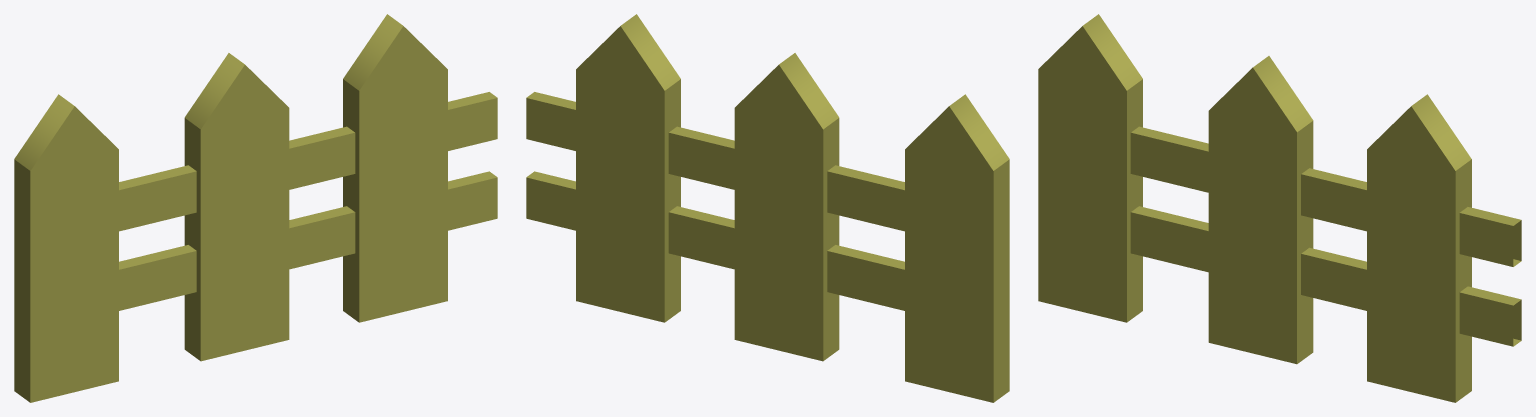
File: SM_ZhaLan.fbx
The picture shows the model from 3 angles, left to right: view 1: azimuth 30°, elevation 25°; view 2: azimuth 150°, elevation 25°; view 3: azimuth 330°, elevation 25°; orthographic projection.
Parts seen in each view (by area): view 1: SM_ZhaLan; view 2: SM_ZhaLan; view 3: SM_ZhaLan.
Boxes of the visible parts, left/top/right/bottom form: SM_ZhaLan: left=14, top=14, right=497, bottom=402; SM_ZhaLan: left=526, top=14, right=1009, bottom=402; SM_ZhaLan: left=1038, top=14, right=1521, bottom=402.
Bounding box in the file's own units: 5.32 × 3.08 × 0.3181.
